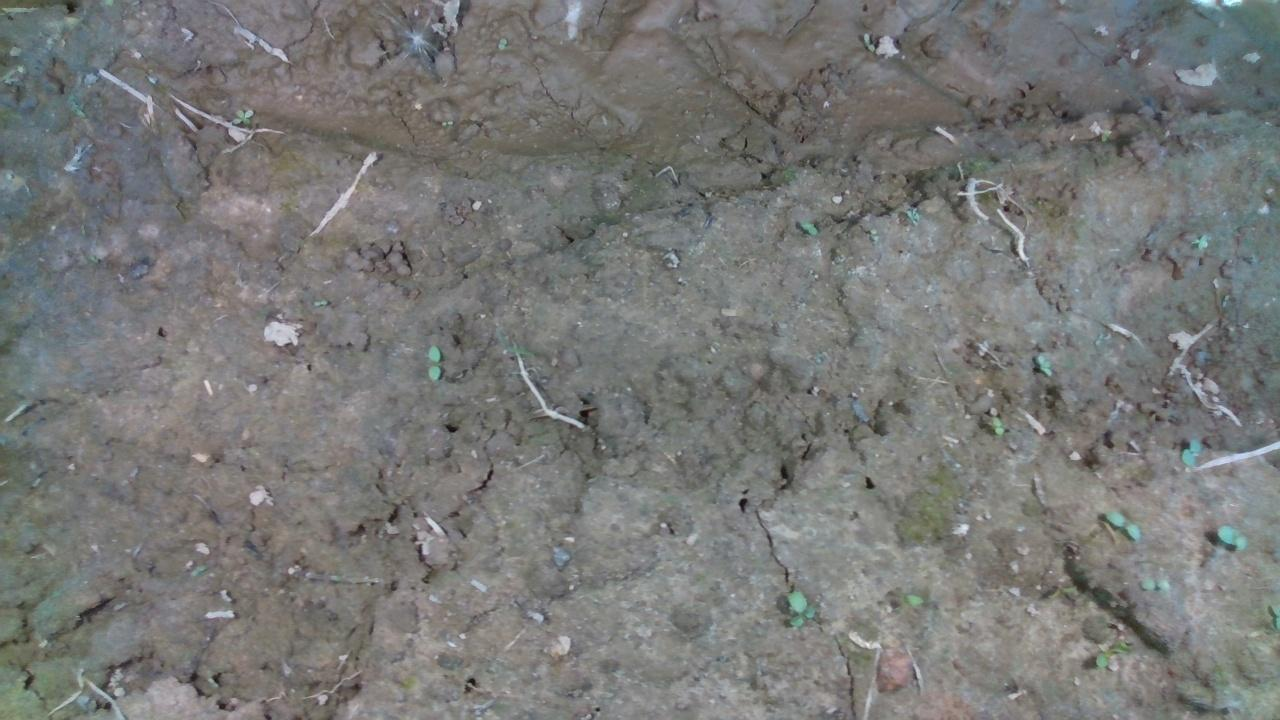weed: (1105, 507, 1144, 550), (782, 586, 819, 630), (1215, 520, 1249, 552), (420, 341, 445, 380), (1177, 437, 1202, 472), (1136, 576, 1171, 596), (793, 217, 822, 236), (312, 295, 327, 305)
